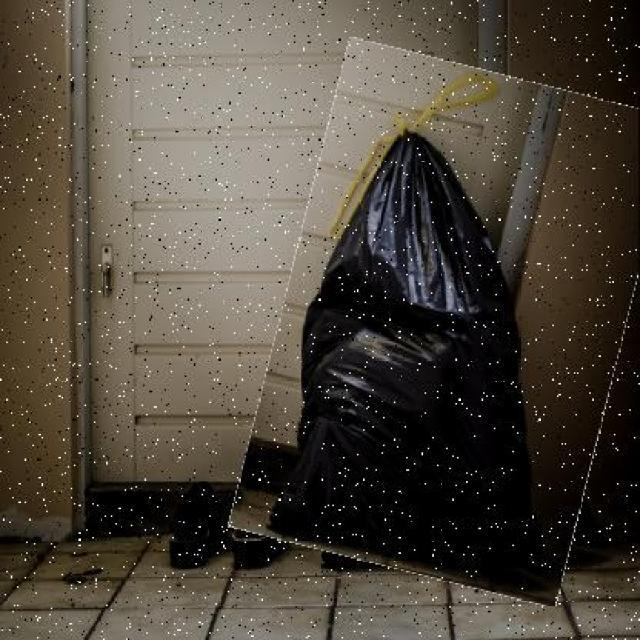waste: (256, 53, 638, 592)
